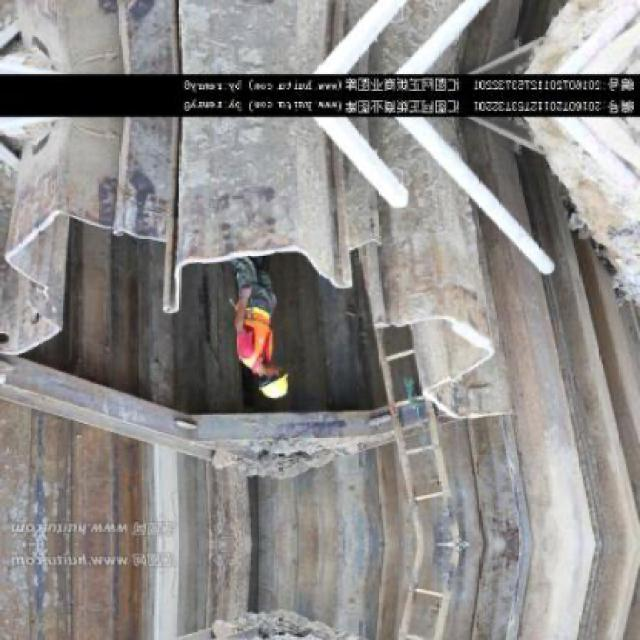con casco: (219, 344, 305, 418)
